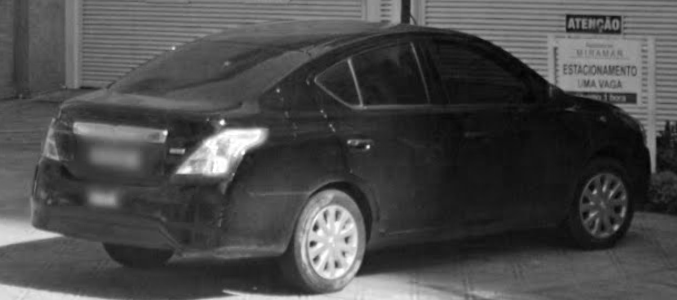car: (28, 18, 651, 290)
